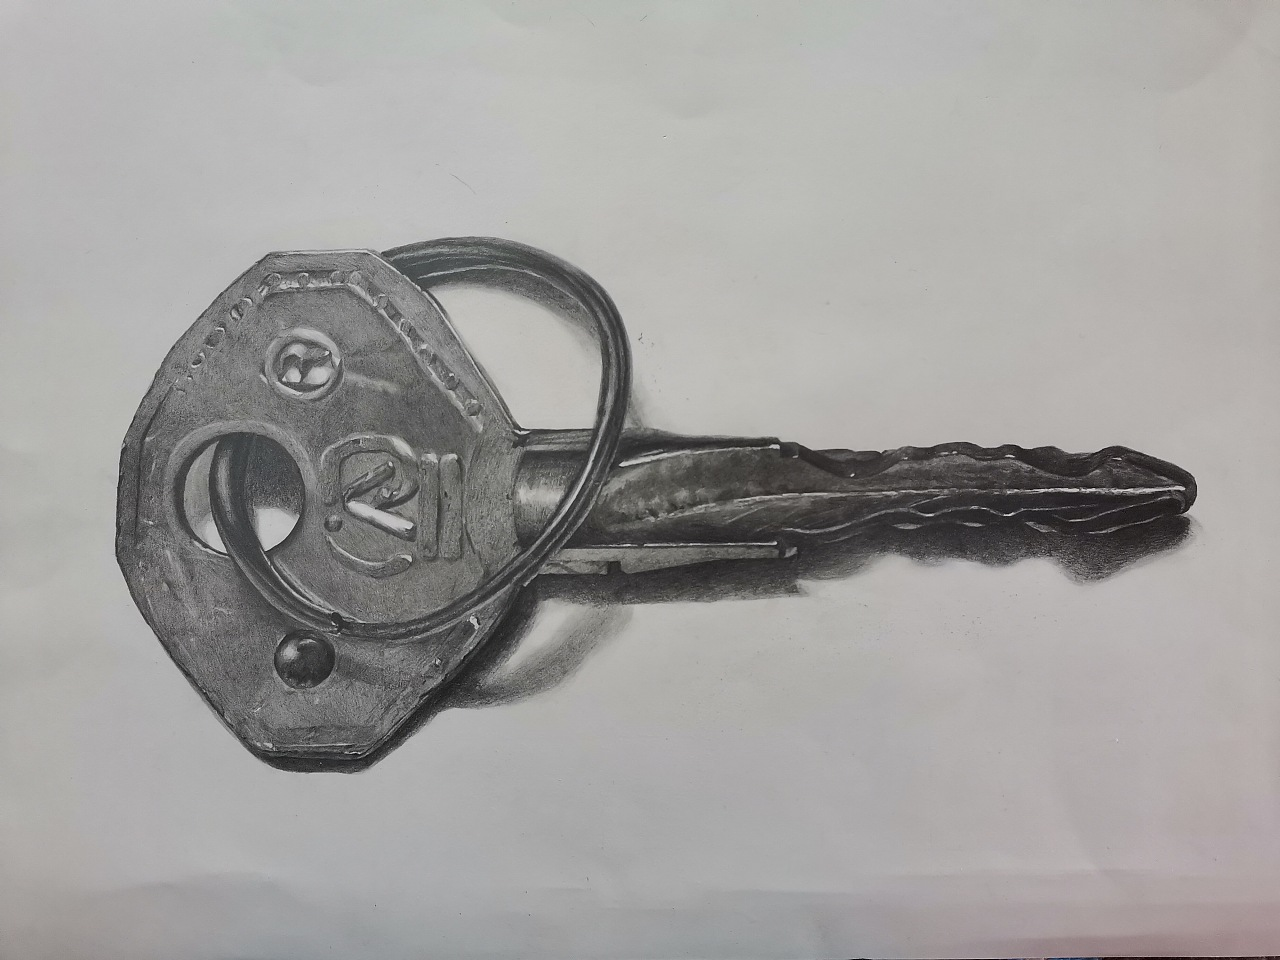key: (100, 225, 1210, 782)
